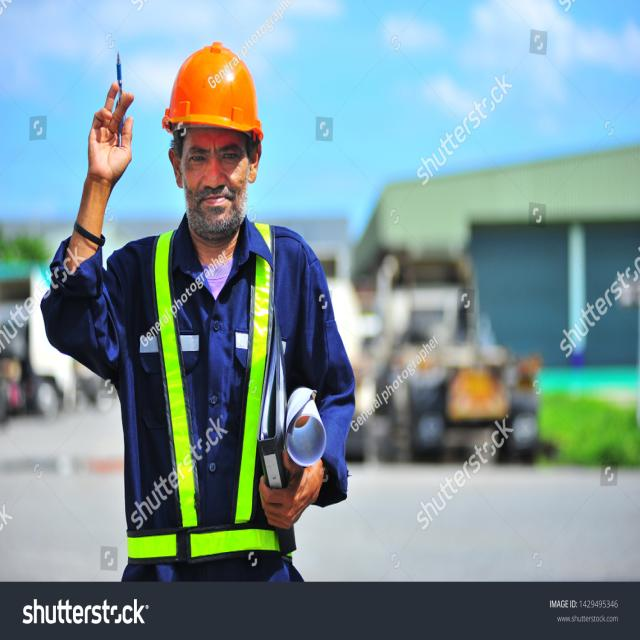helmet: (160, 40, 263, 148)
no-goggles: (178, 134, 246, 174)
vest: (120, 216, 294, 566)
